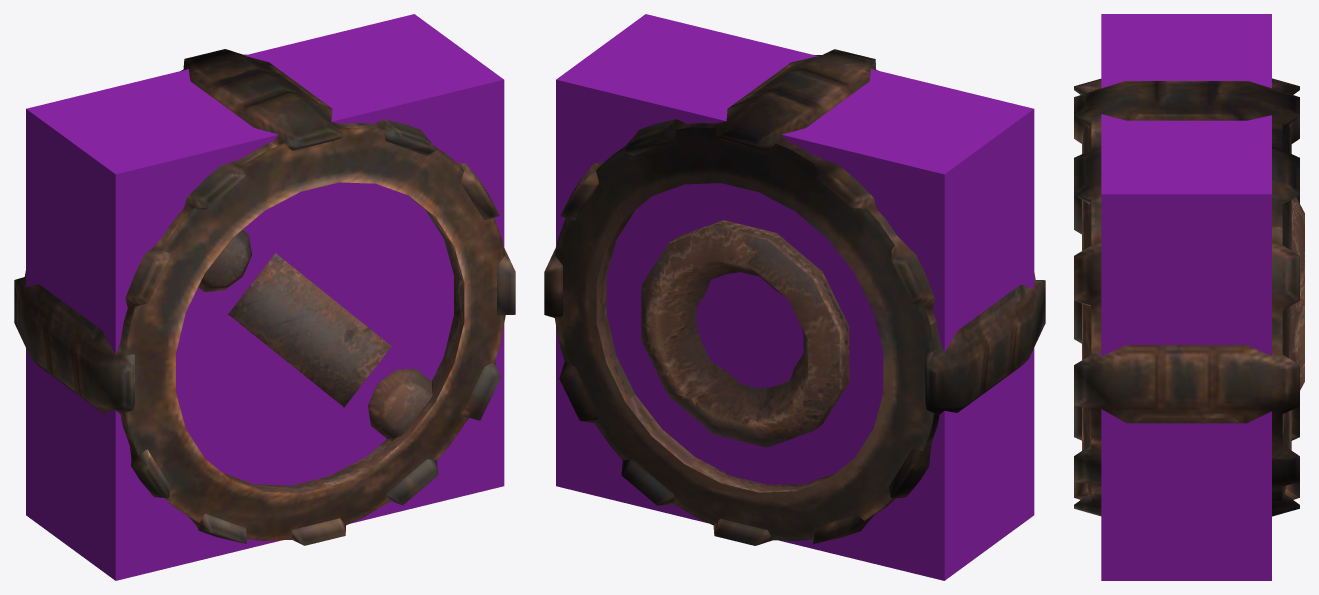
File: wheel.DAE
3 views of the same model, side by side, from view 1: azimuth 30°, elevation 25°; view 2: azimuth 150°, elevation 25°; view 3: azimuth 270°, elevation 25° (orthographic). The views are drawn at different scales.
Visible parts, largest first — view 1: col-1, Tread1; view 2: col-1, Tread1; view 3: col-1, Tread1.
Boxes of the visible parts, box(x1,y1,x2,y2) form: col-1: box(26, 14, 504, 580); Tread1: box(14, 49, 515, 545); col-1: box(556, 14, 1034, 580); Tread1: box(544, 49, 1045, 545); col-1: box(1101, 14, 1271, 580); Tread1: box(1074, 78, 1304, 516).
Size of the model in its own units: 1.22 by 0.624 by 1.22.
Materials: 3 (2 with a texture image).
